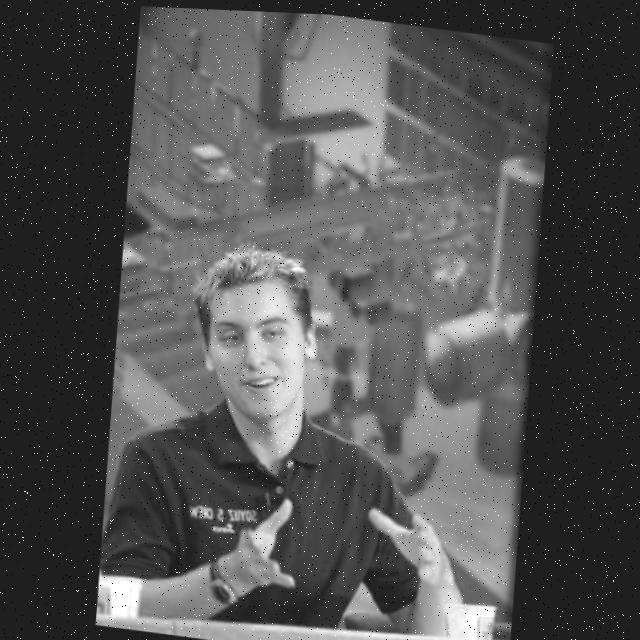face: (190, 245, 324, 421)
